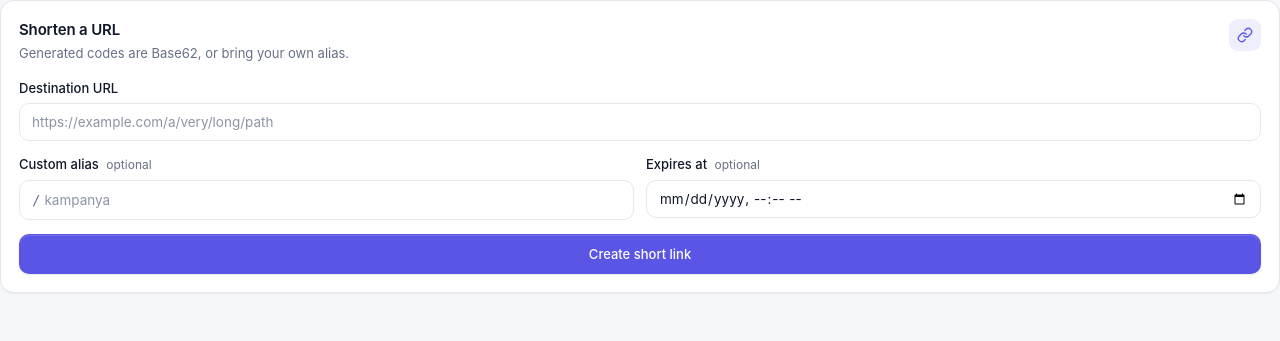
Test: CreateLinkForm › validates that a url was entered before calling the api
This screenshot has width=1280, height=341.
Click the button "Create short link". click: x=640, y=254
box: x1=19 y1=234 x2=1261 y2=274
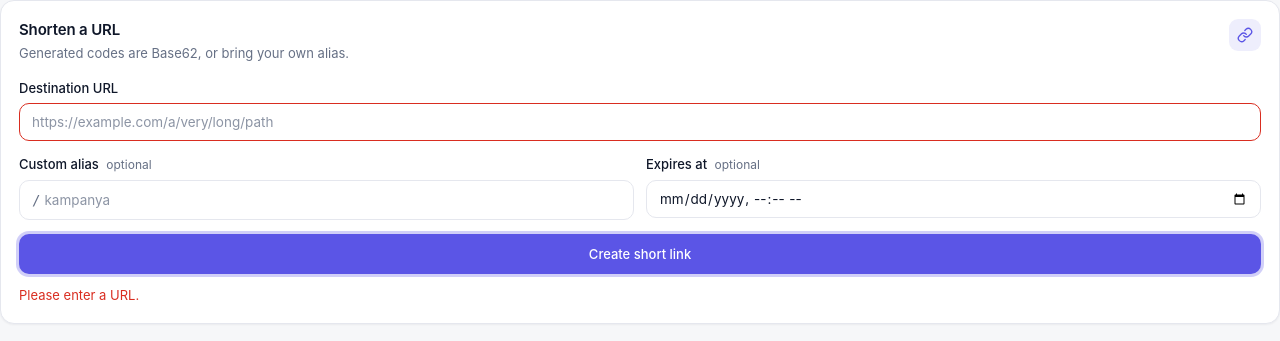
Expected: the message shows "enter a URL", x1=19 y1=287 x2=139 y2=303
